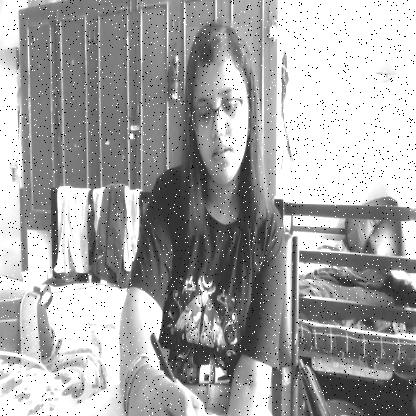Normal: (187, 27, 253, 189)
